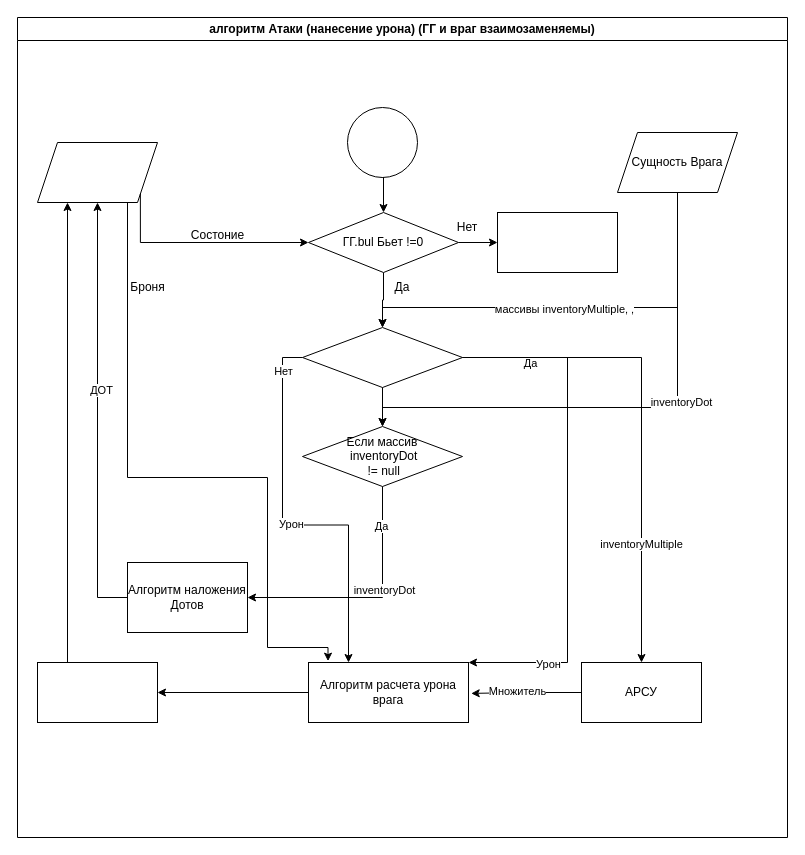
Image size: 805x855. Some labels were removed from this diagram. The shapes that lost their labels are listed below. From the top down, each one's centre as x and y in pixels, then its label:
At point 97,172: "Сущность ГГ".
At point 557,242: "Break".
At point 382,357: "Если массив inventoryMultiple != null".
At point 97,692: "Сеттер отъёма хп ГГ".
